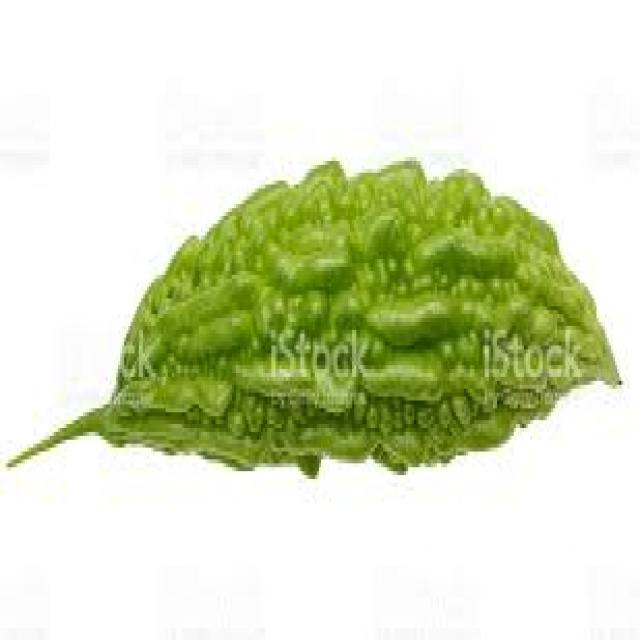organic waste: (4, 149, 619, 475)
